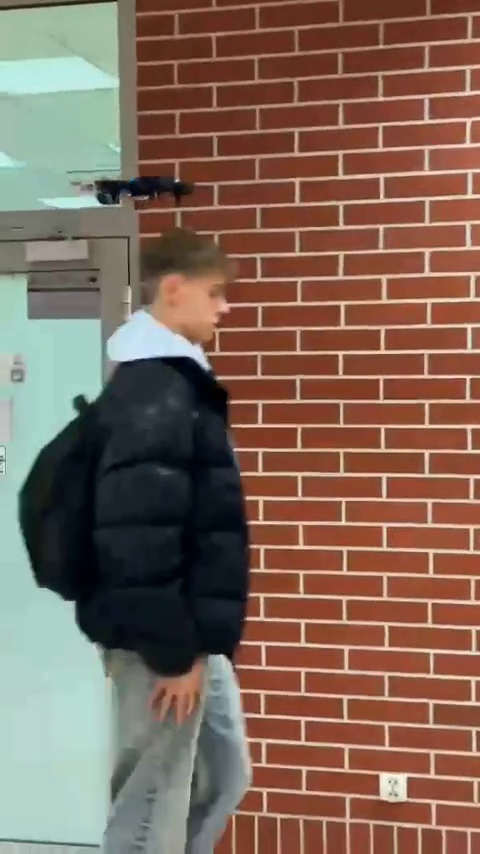drone: (92, 177, 197, 211)
no vest: (38, 226, 259, 836)
